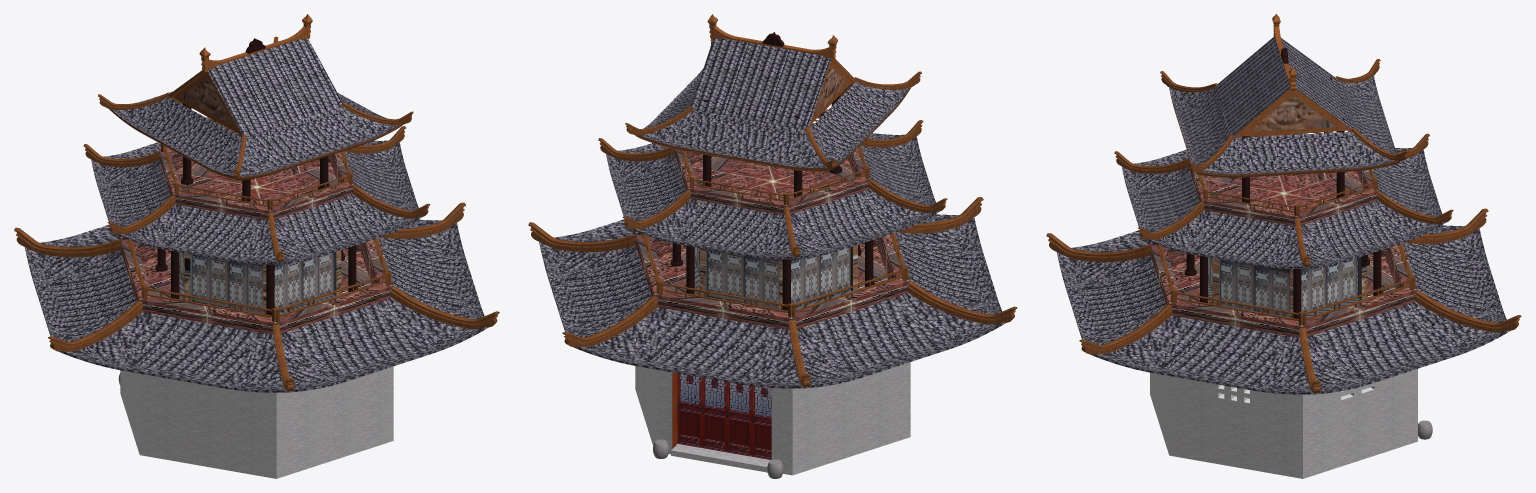
The picture shows the model from 3 angles, left to right: view 1: azimuth 30°, elevation 25°; view 2: azimuth 150°, elevation 25°; view 3: azimuth 270°, elevation 25°; orthographic projection. The views are drawn at different scales.
Visible parts, largest first — view 1: _G-Object.203 (Loose Mesh), C-组件#72.008, _G-Object.101 (Loose Mesh), C-组件#72.006, C-组件#72.007, _G-Object.106 (Loose Mesh), C-组件#72.011, C-组件#72.002, _C-群组#890 (Loose Mesh).003, C-组件#72, _C-群组#890 (Loose Mesh).001, C-组件#72.001 (+19 smaller); view 2: _G-Object.203 (Loose Mesh), C-组件#72.009, _G-Object.101 (Loose Mesh), C-组件#72.007, C-组件#72.010, _G-Object.106 (Loose Mesh), G-Object.204, _C-群组#890 (Loose Mesh), C-组件#72.008, C-组件#72.003, C-组件#72.001, _C-群组#890 (Loose Mesh).001 (+21 smaller); view 3: _G-Object.203 (Loose Mesh), C-组件#72.011, C-组件#72.010, _G-Object.101 (Loose Mesh), C-组件#72.006, _G-Object.106 (Loose Mesh), _C-群组#890 (Loose Mesh).002, C-组件#72.009, C-组件#72.005, C-组件#72.004, C-组件#72, _C-群组#890 (Loose Mesh).003 (+20 smaller).
Boxes of the visible parts, box(x1,y1,x2,y2) form: _G-Object.203 (Loose Mesh): box(120, 366, 393, 478); C-组件#72.008: box(58, 311, 289, 392); _G-Object.101 (Loose Mesh): box(168, 35, 342, 137); C-组件#72.006: box(281, 297, 488, 392); C-组件#72.007: box(25, 246, 136, 341); _G-Object.106 (Loose Mesh): box(179, 250, 341, 314); C-组件#72.011: box(379, 222, 484, 319); C-组件#72.002: box(115, 204, 280, 264); _C-群组#890 (Loose Mesh).003: box(236, 106, 402, 180); C-组件#72: box(274, 194, 422, 263); _C-群组#890 (Loose Mesh).001: box(109, 97, 241, 180); C-组件#72.001: box(91, 159, 170, 226); _G-Object.203 (Loose Mesh): box(635, 362, 910, 475); C-组件#72.009: box(573, 307, 806, 388); _G-Object.101 (Loose Mesh): box(691, 35, 855, 129); C-组件#72.007: box(797, 293, 1006, 388); C-组件#72.010: box(539, 241, 651, 337); _G-Object.106 (Loose Mesh): box(694, 245, 857, 309); G-Object.204: box(677, 373, 771, 459); _C-群组#890 (Loose Mesh): box(635, 110, 830, 171); C-组件#72.008: box(896, 217, 1002, 314); C-组件#72.003: box(630, 198, 796, 259); C-组件#72.001: box(790, 188, 939, 258); _C-群组#890 (Loose Mesh).001: box(810, 82, 911, 170); _G-Object.203 (Loose Mesh): box(1150, 369, 1417, 478); C-组件#72.011: box(1090, 315, 1316, 394); C-组件#72.010: box(1307, 301, 1510, 394); _G-Object.101 (Loose Mesh): box(1215, 37, 1352, 137); C-组件#72.006: box(1057, 251, 1165, 344); _G-Object.106 (Loose Mesh): box(1208, 255, 1366, 318); _C-群组#890 (Loose Mesh).002: box(1196, 131, 1399, 177); C-组件#72.009: box(1403, 227, 1506, 322); C-组件#72.005: box(1145, 210, 1306, 268); C-组件#72.004: box(1300, 200, 1445, 268); C-组件#72: box(1122, 166, 1199, 232); _C-群组#890 (Loose Mesh).003: box(1169, 86, 1230, 165).
Bounding box in the file's own units: 11.64 × 9.55 × 10.89.
Materials: 16 (13 with a texture image).
